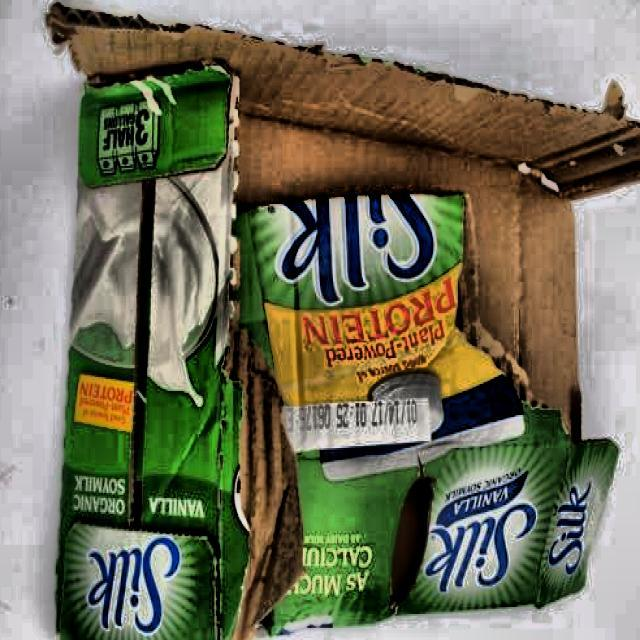cardboard: (46, 2, 640, 640)
